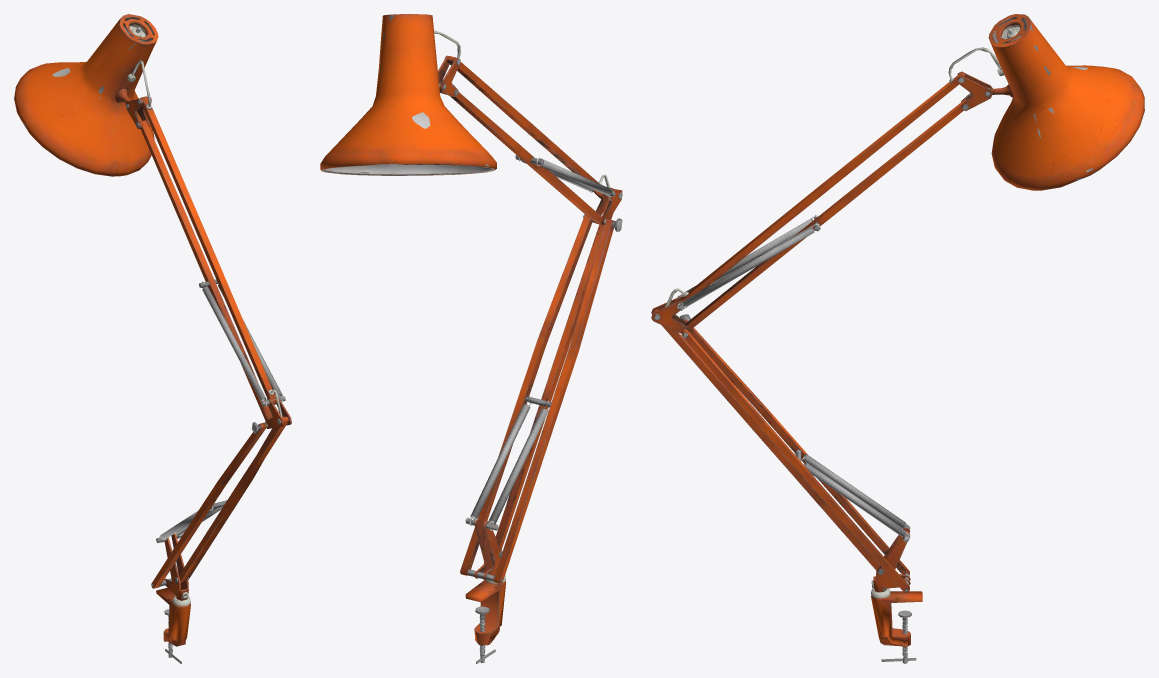
Rendered from desk_lamp_arm_01.glb.
3 renders of one model, left to right at view 1: azimuth 30°, elevation 25°; view 2: azimuth 150°, elevation 25°; view 3: azimuth 270°, elevation 25°, orthographic. The views are drawn at different scales.
Parts seen in each view (by area): view 1: desk_lamp_arm_01; view 2: desk_lamp_arm_01; view 3: desk_lamp_arm_01.
Part boxes in pixels (x1=…): desk_lamp_arm_01: x1=14, y1=14, x2=291, y2=663; desk_lamp_arm_01: x1=320, y1=14, x2=622, y2=663; desk_lamp_arm_01: x1=651, y1=14, x2=1144, y2=663.
Bounding box in the file's own units: 0.2006 × 0.8926 × 0.6133.
Materials: 2 (2 with a texture image).
